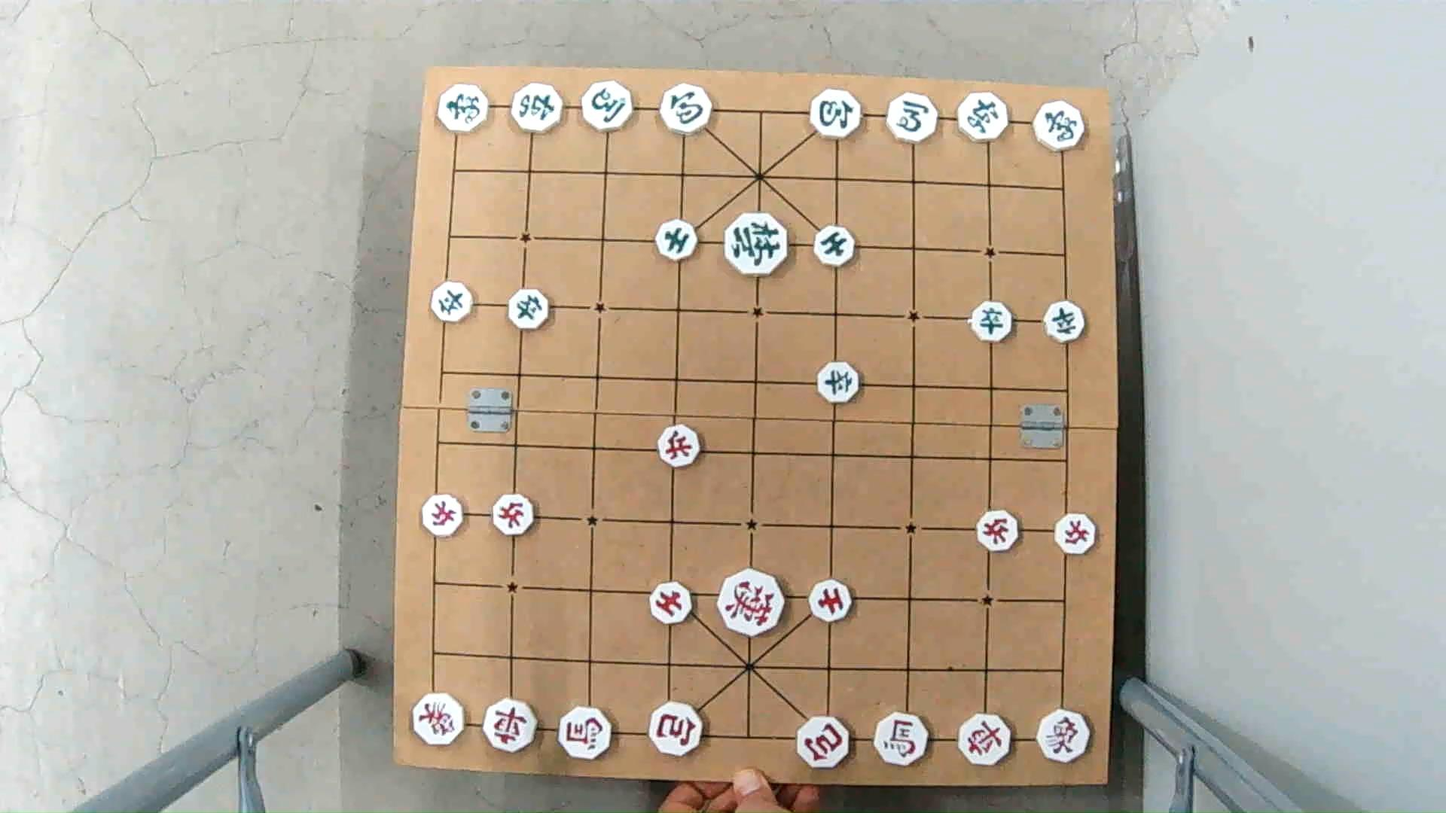cha_green: (508, 84, 566, 132), (954, 94, 1010, 140)
cha_red: (484, 700, 542, 751), (959, 714, 1013, 763)
jol_green: (814, 364, 864, 401), (972, 303, 1018, 341), (505, 292, 552, 329), (1040, 303, 1084, 341), (431, 285, 475, 322)
jol_red: (419, 494, 465, 537), (972, 513, 1021, 551), (492, 495, 541, 533), (656, 426, 703, 464), (1049, 517, 1097, 554)
ma_green: (886, 96, 942, 142), (581, 87, 638, 132)
ma_red: (871, 717, 933, 763), (558, 709, 617, 757)
po_green: (657, 87, 715, 132), (807, 92, 864, 136)
po_red: (648, 705, 705, 754), (795, 718, 853, 765)
sa_green: (651, 220, 700, 258), (811, 227, 859, 263)
sa_red: (647, 580, 694, 623), (805, 581, 854, 620)
sang_green: (437, 84, 493, 130), (1030, 102, 1084, 149)
sang_red: (1036, 710, 1092, 765), (410, 695, 469, 744)
wang_green: (725, 215, 795, 274)
wang_red: (717, 571, 789, 632)
